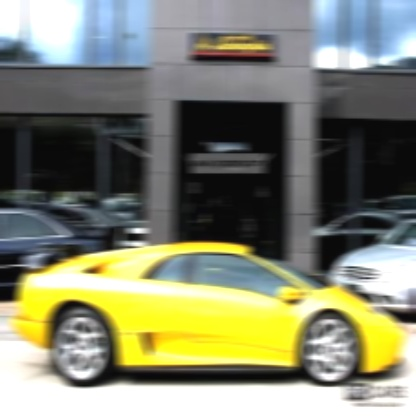Vehicle: (15, 241, 406, 386)
